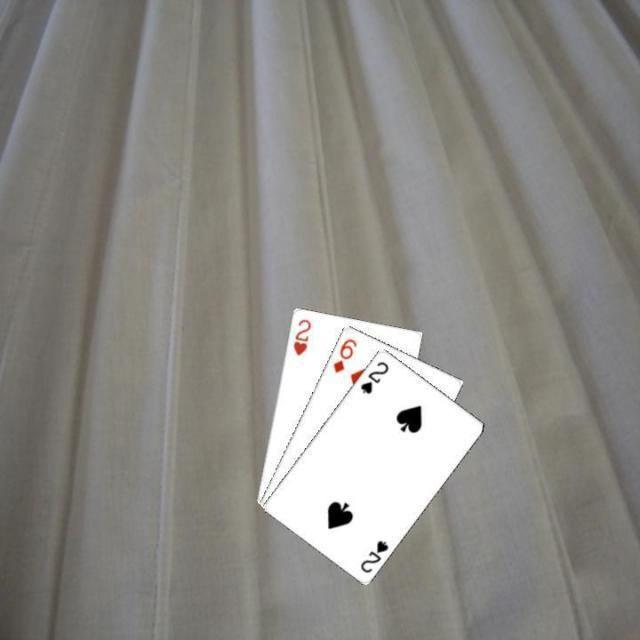2H: (289, 314, 313, 358)
2S: (356, 358, 391, 396), (356, 536, 391, 574)
6D: (328, 334, 358, 374)
